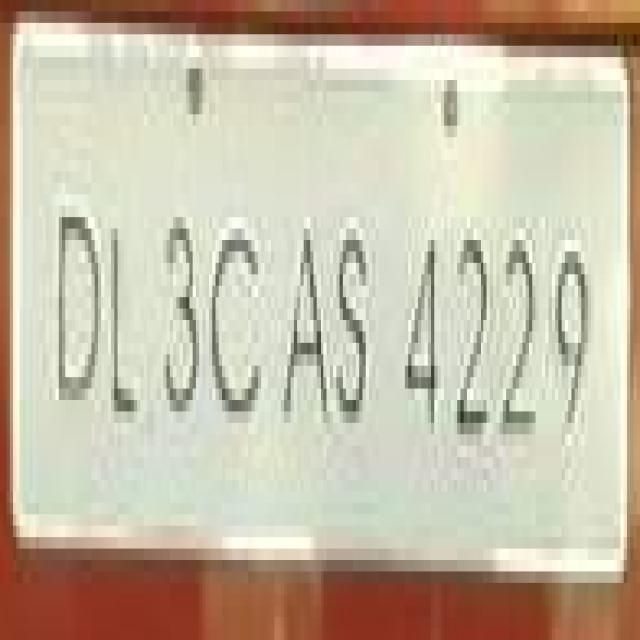license_plate: (0, 23, 617, 571)
